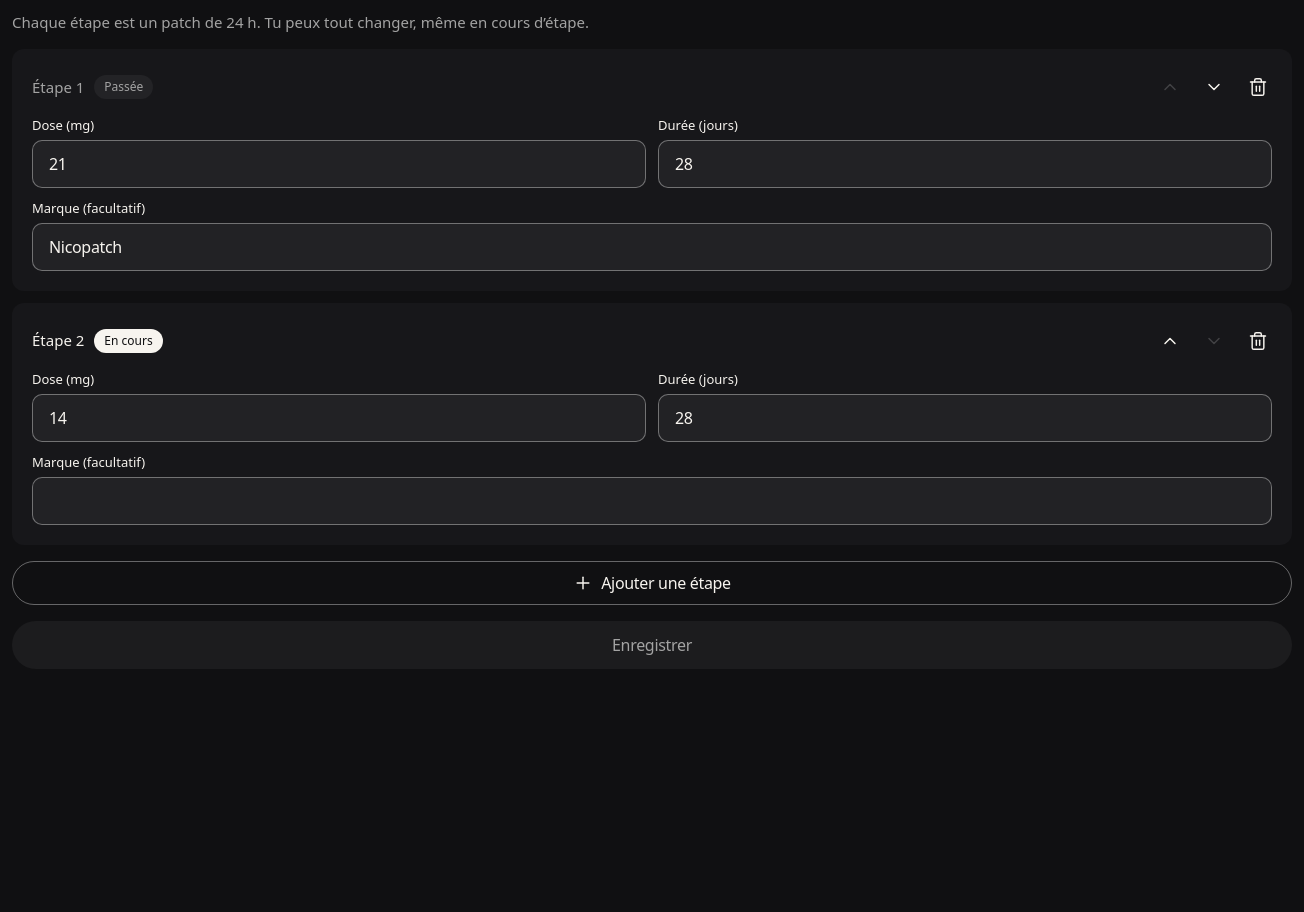
Test case: wakes save on a removed step
Click the button named "Supprimer l’étape 2".
click(1258, 341)  # box [1236,319,1280,363]
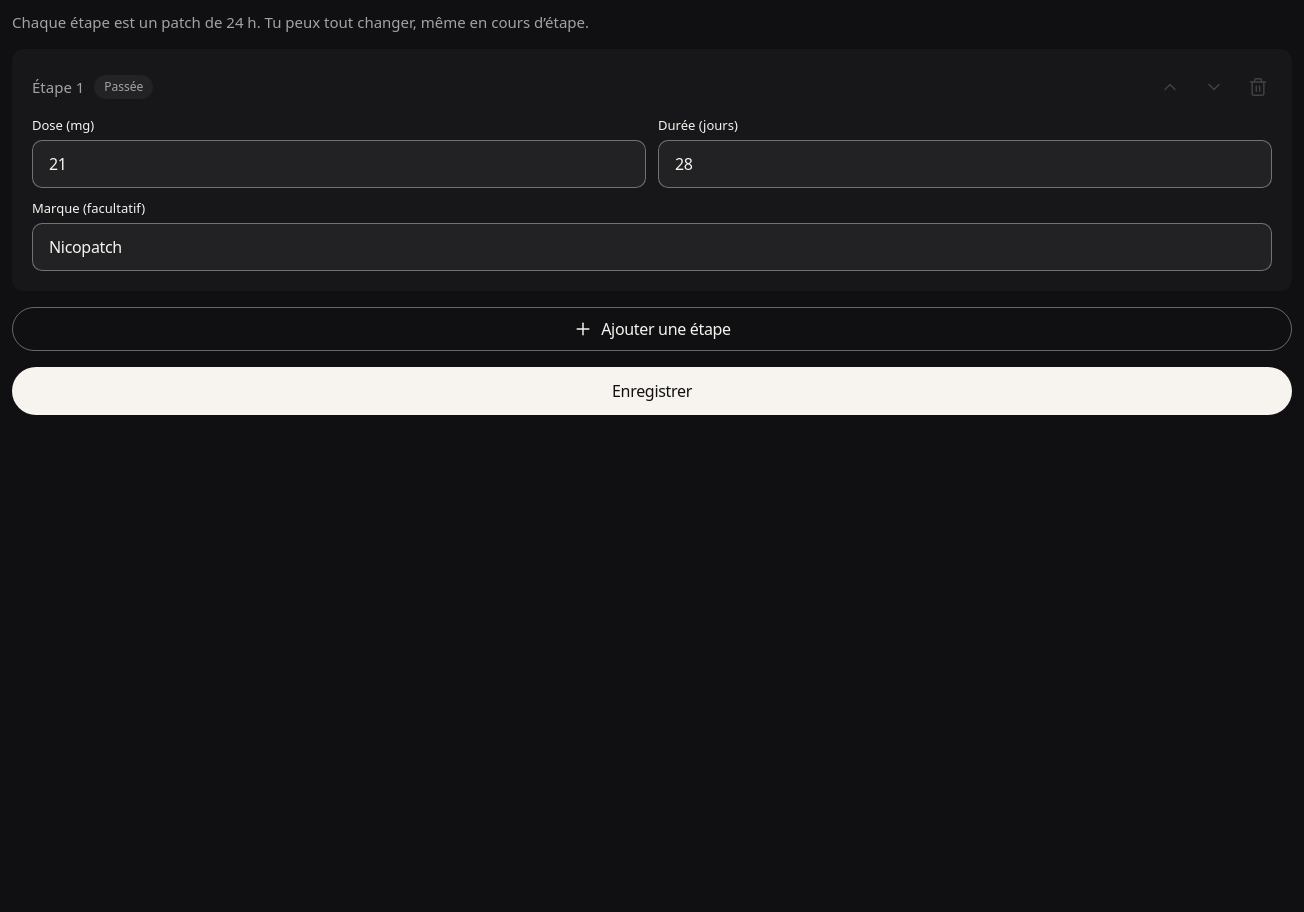
Check: the button "Enregistrer" is enabled, box [12,367,1292,415]
